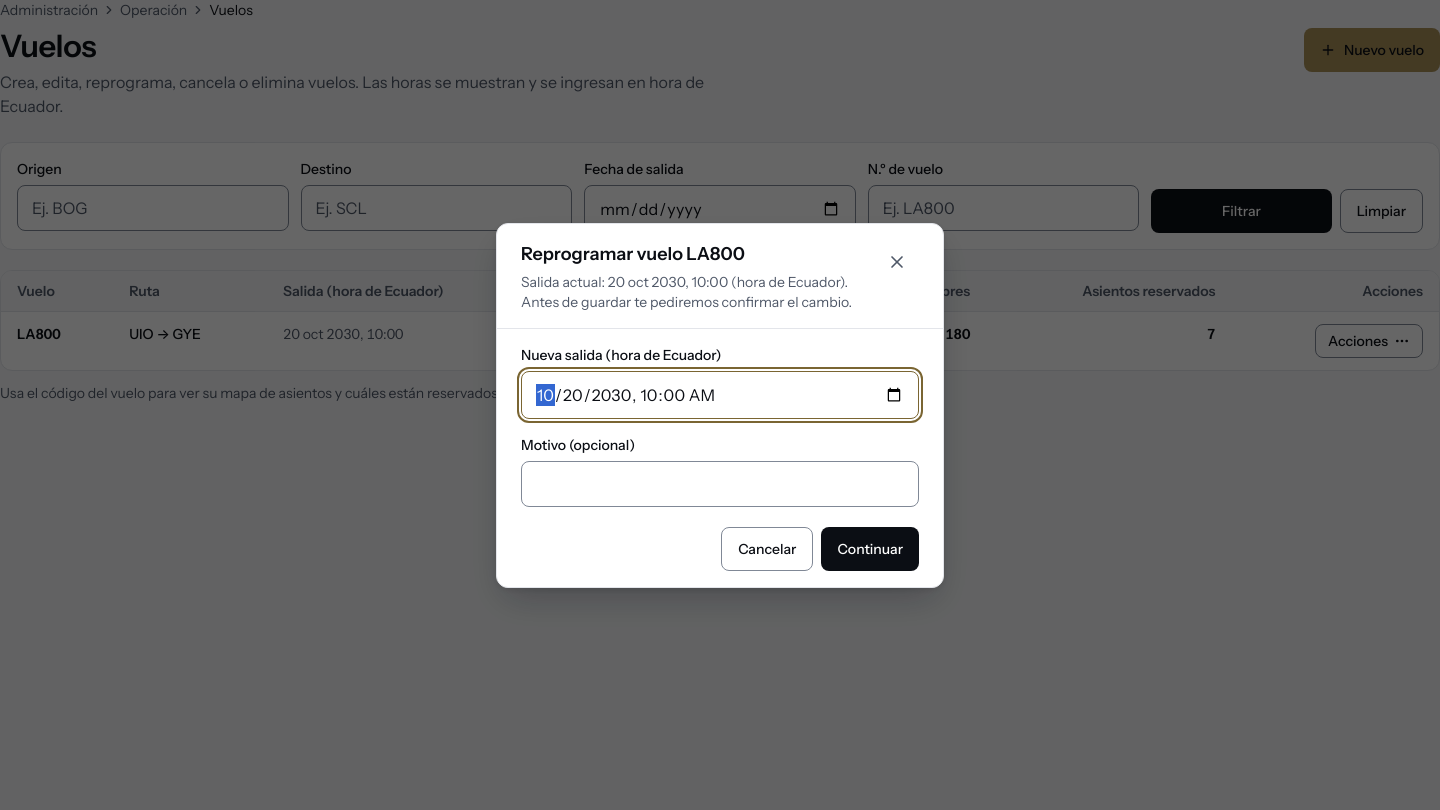
Test: AdminFlightsPage › can go back from the confirmation without sending anything
Earlier steps of the test are not shown.
Replace the text in the field labelled "Nueva salida (hora de Ecuador)" with "2030-10-21T10:00" at {"x": 720, "y": 394}, box [521,370,919,418]
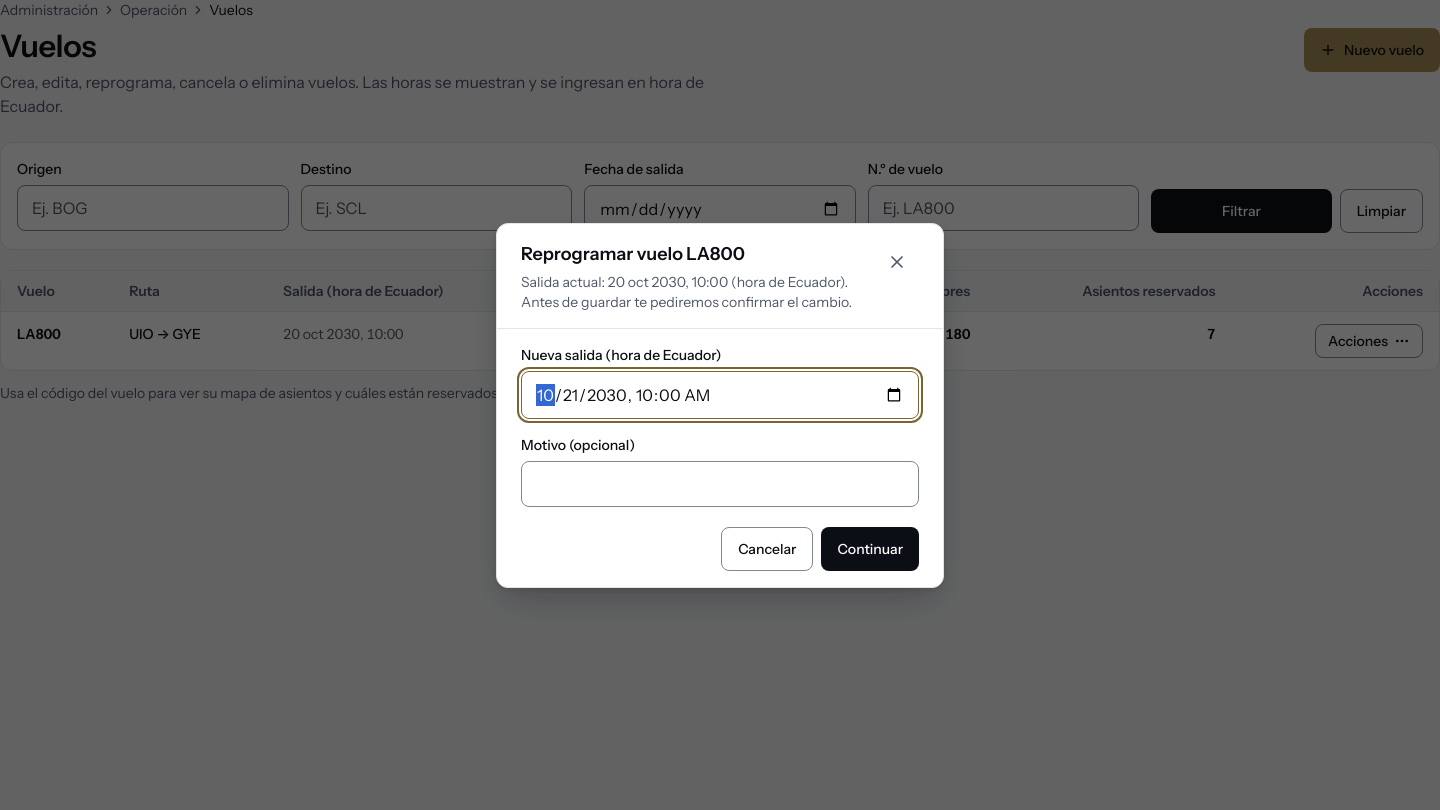
Click the button "Continuar" at {"x": 870, "y": 548}, box [822,526,919,570]
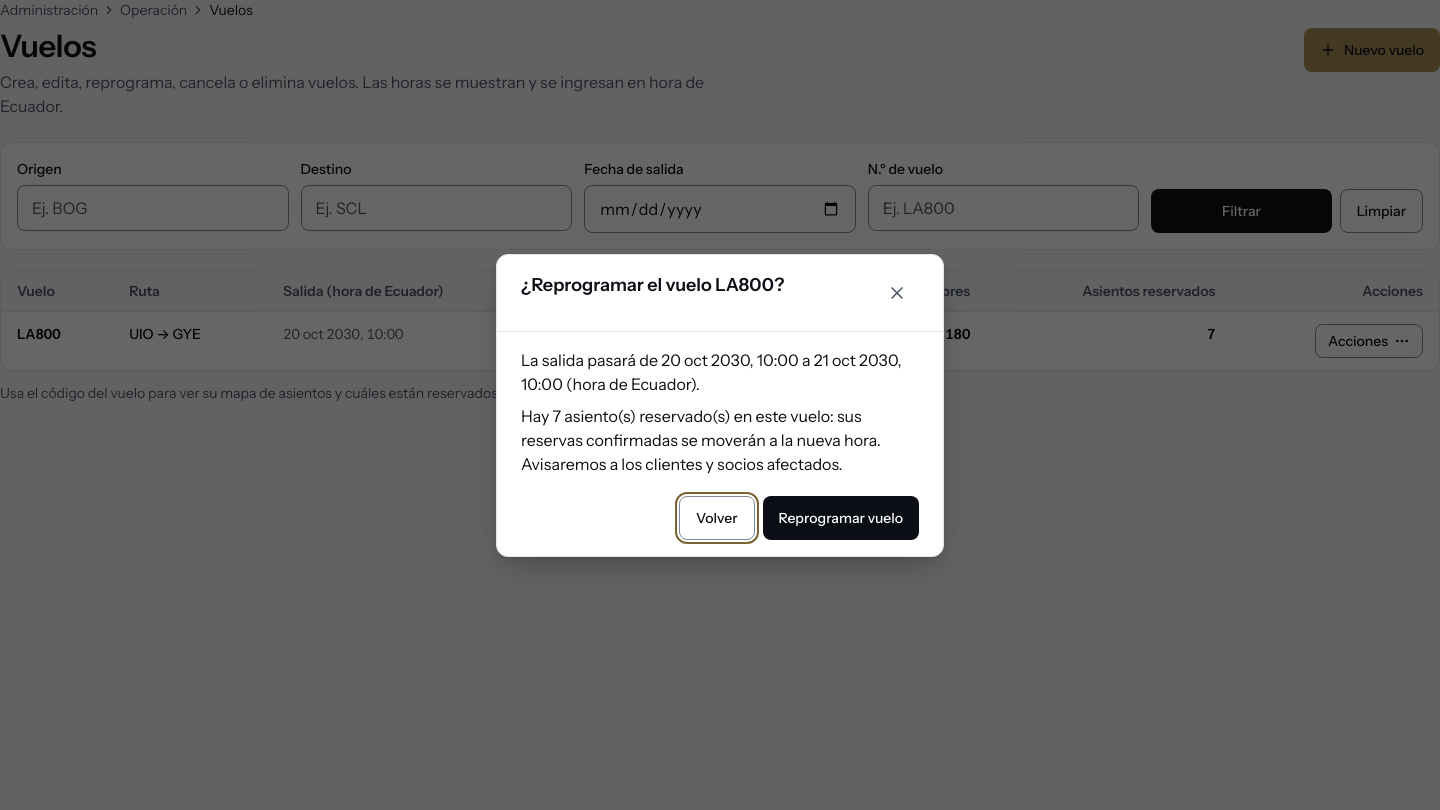
Click the button "Volver" at {"x": 717, "y": 518}, box [679,496,755,540]
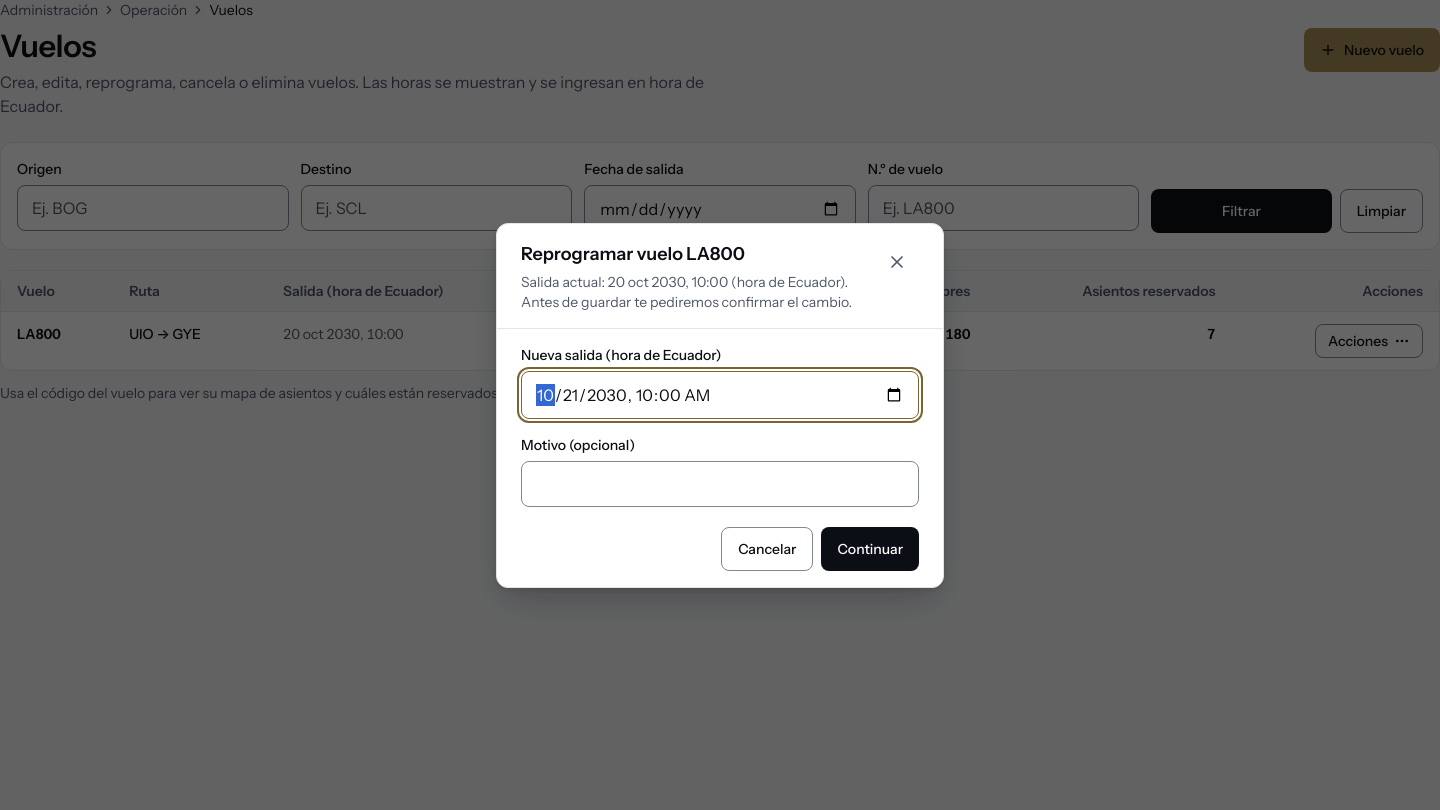
Expected: the dialog "Reprogramar vuelo LA800" is shown, [496,222,944,588]
